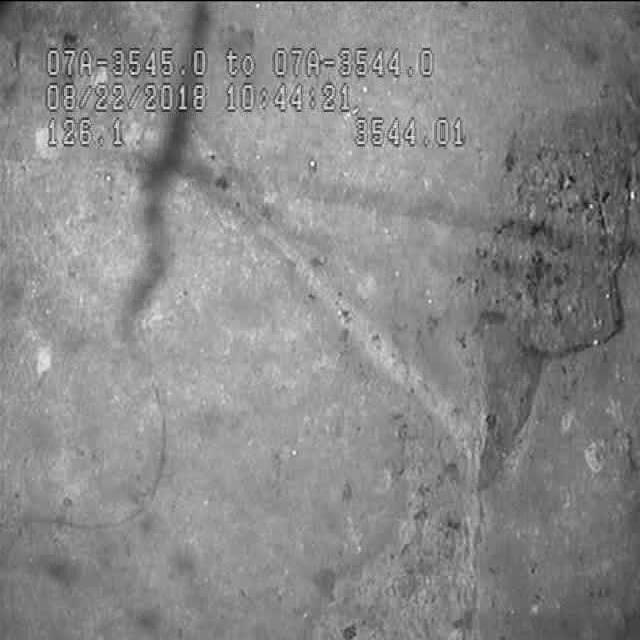Crack: (13, 361, 208, 579)
